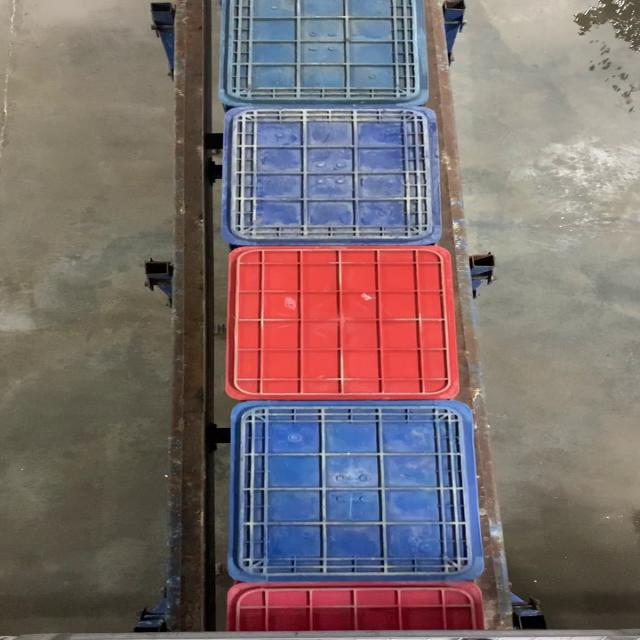Box: (223, 399, 490, 579), (221, 243, 459, 399), (216, 105, 444, 243)
